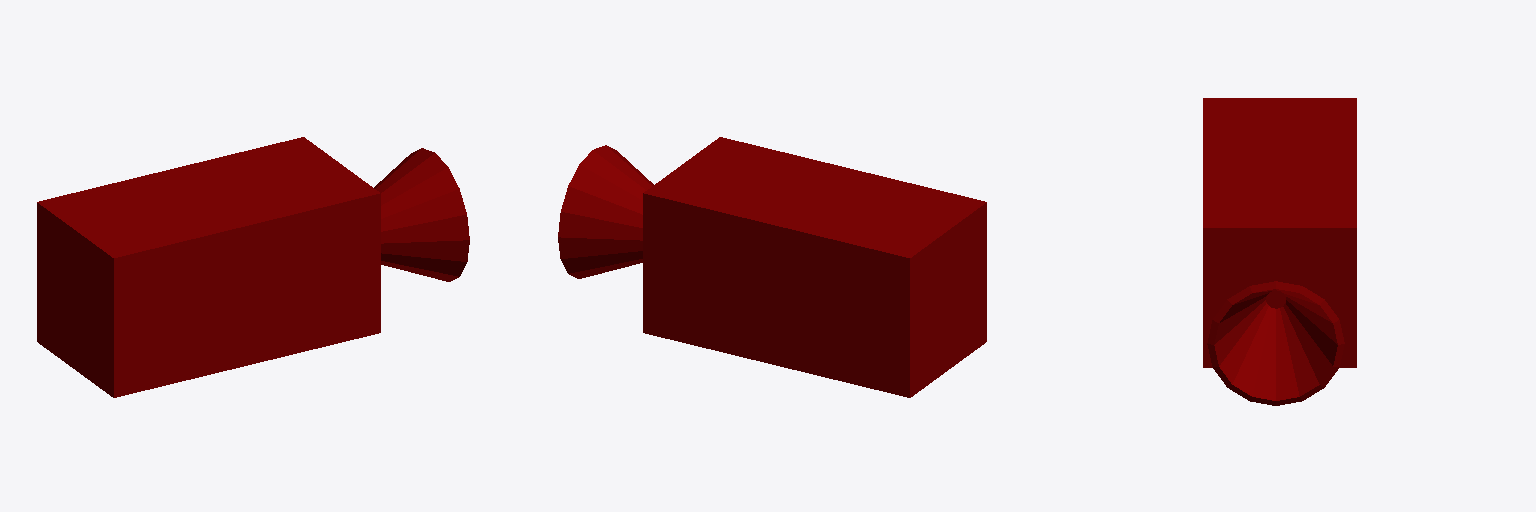
The model's file is camera.obj.
3 views of the same model, side by side, from view 1: azimuth 30°, elevation 25°; view 2: azimuth 150°, elevation 25°; view 3: azimuth 270°, elevation 25° (orthographic).
Visible parts, largest first — view 1: Rectangle001; view 2: Rectangle001; view 3: Rectangle001.
Boxes of the visible parts, <box> form: Rectangle001: <box>37,137,469,397</box>; Rectangle001: <box>558,137,986,397</box>; Rectangle001: <box>1203,98,1356,405</box>.
Bounding box in the file's own units: 5.41 × 2 × 2.